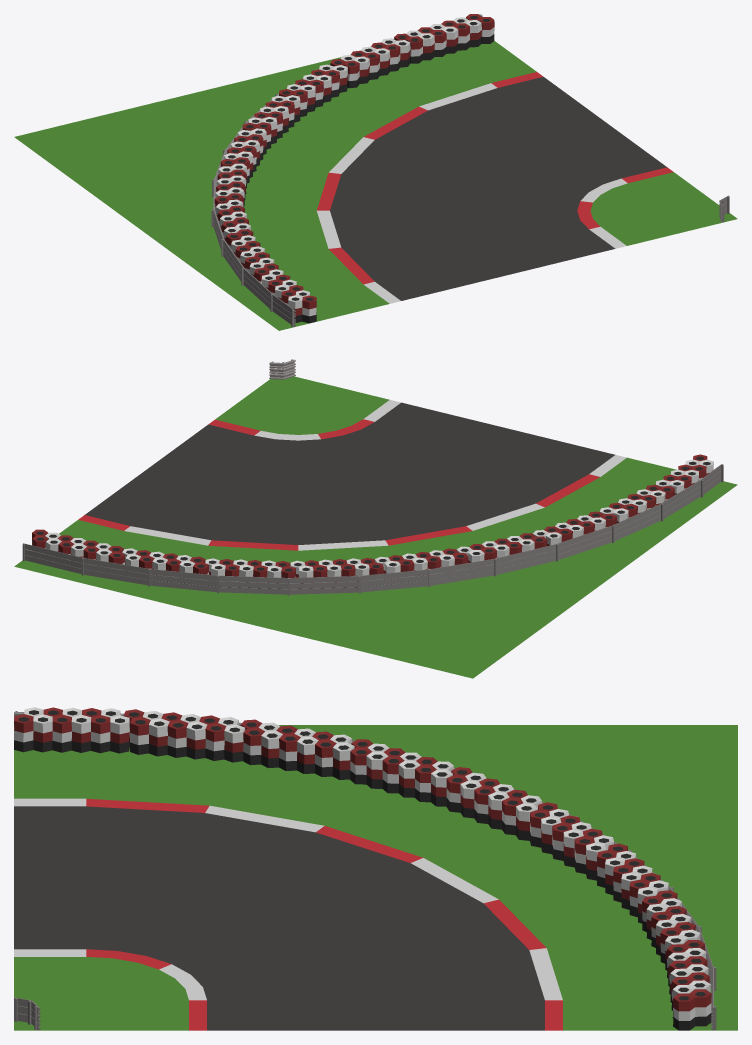
Rendered from tiles-nb_tile-race-track-curve-nb.fbx.
3 views of the same model, one above another, from view 1: azimuth 30°, elevation 25°; view 2: azimuth 150°, elevation 25°; view 3: azimuth 270°, elevation 25° (orthographic). The views are drawn at different scales.
Parts seen in each view (by area): view 1: tiles_nb_tile_race_track_curve_nb; view 2: tiles_nb_tile_race_track_curve_nb; view 3: tiles_nb_tile_race_track_curve_nb.
Part boxes in pixels (left/top/right/bottom): tiles_nb_tile_race_track_curve_nb: left=14, top=14, right=737, bottom=330; tiles_nb_tile_race_track_curve_nb: left=14, top=359, right=737, bottom=678; tiles_nb_tile_race_track_curve_nb: left=14, top=707, right=737, bottom=1030.
Bounding box in the file's own units: 200 × 8.8 × 200.
